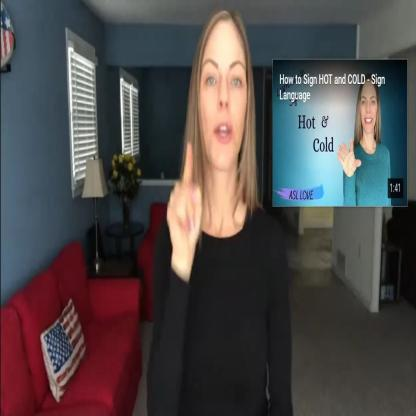NiceToMeetYou: (150, 0, 294, 416)
